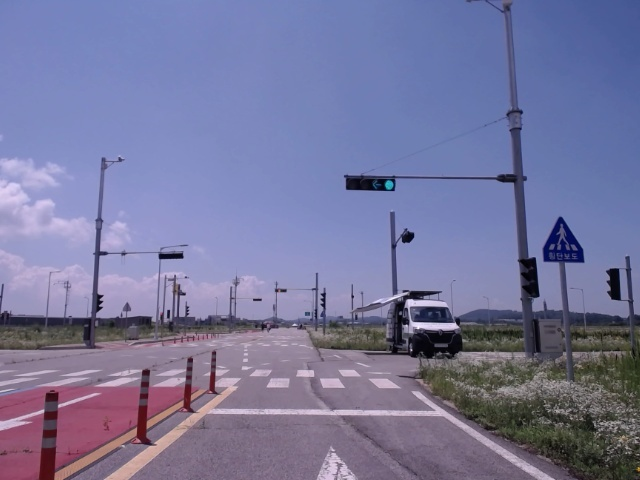all_green_4: (343, 176, 396, 192)
